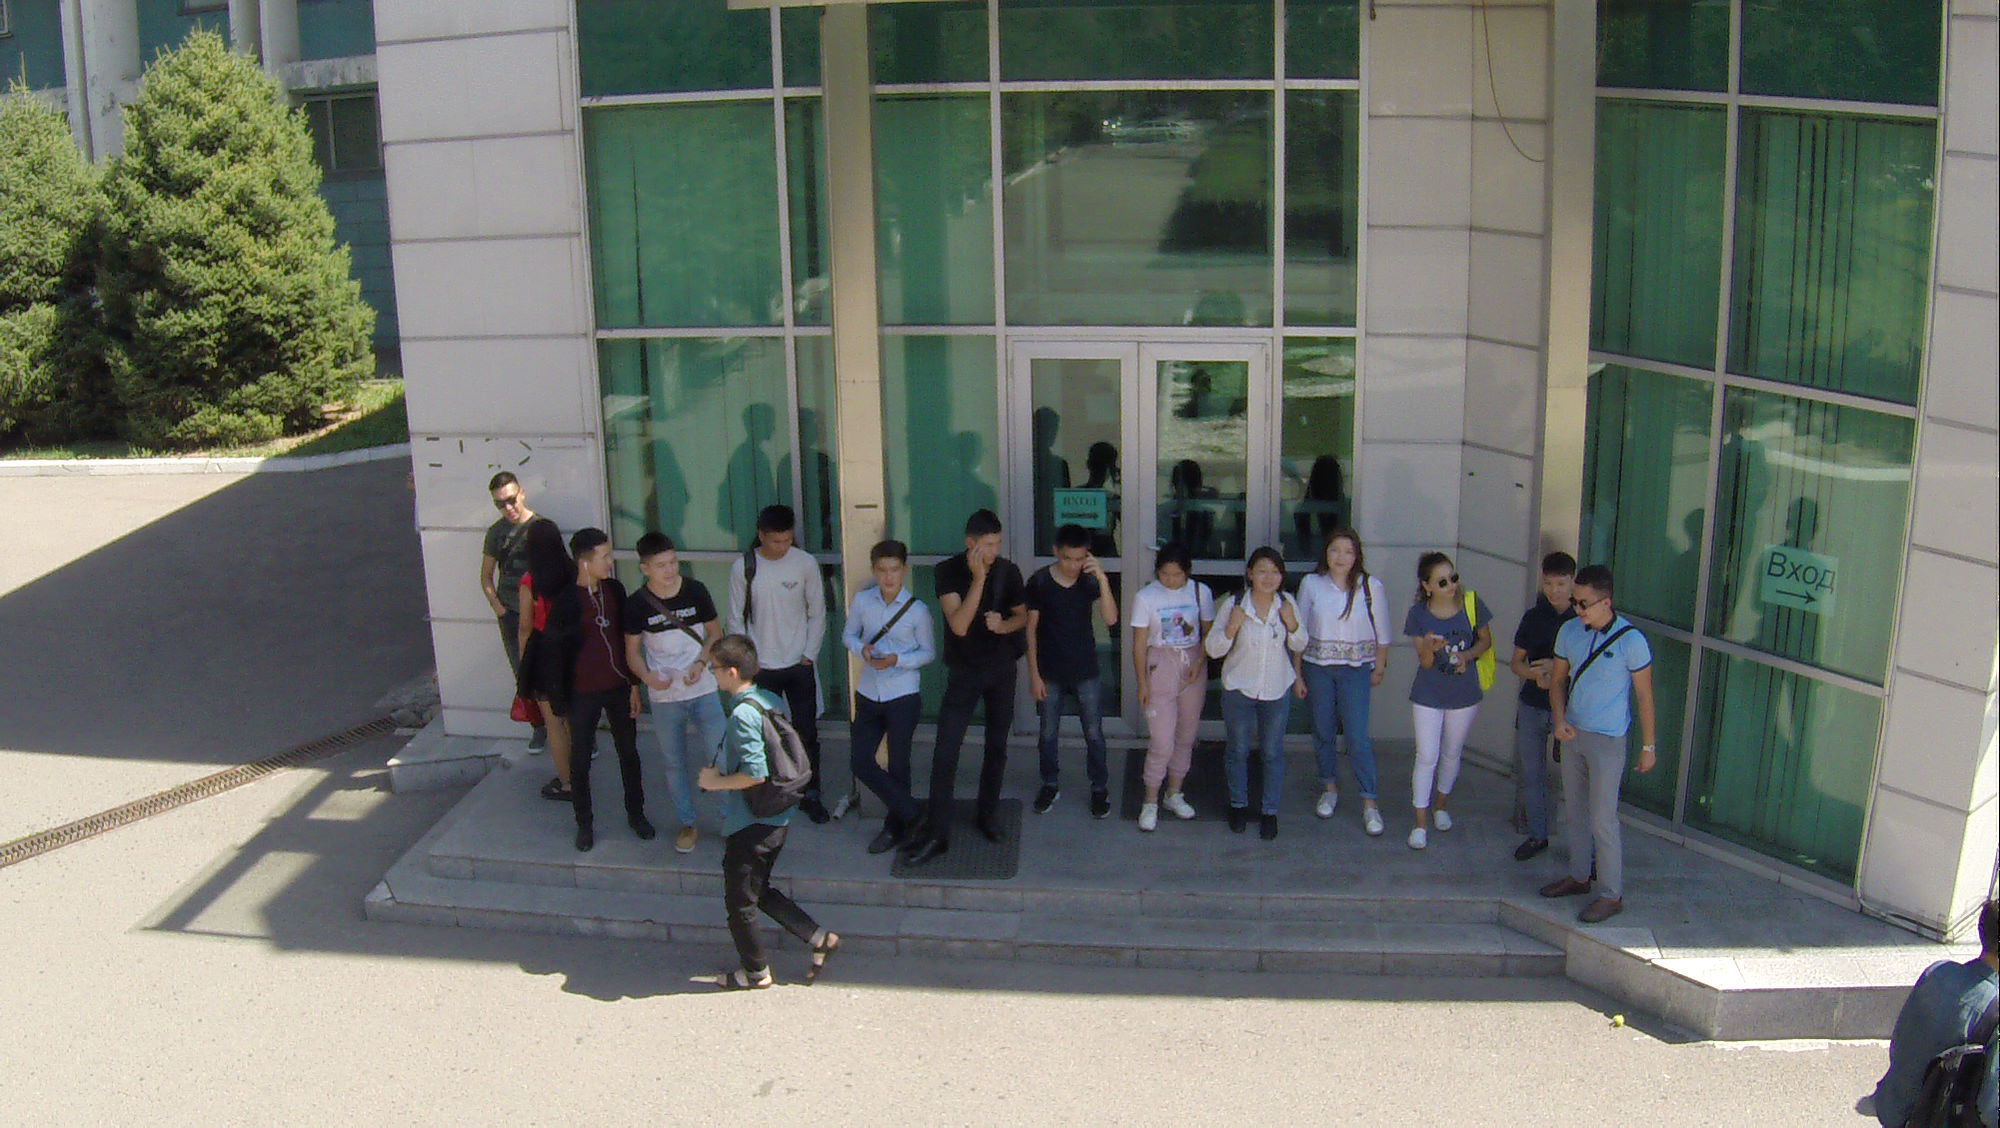person: (688, 623, 842, 993), (1540, 556, 1663, 924), (1385, 530, 1498, 868), (615, 508, 720, 863), (923, 500, 1022, 872), (1290, 533, 1399, 857), (551, 526, 661, 844), (1022, 505, 1122, 826), (1216, 522, 1310, 857), (835, 518, 926, 865), (1117, 534, 1218, 832), (1500, 519, 1584, 867), (513, 509, 589, 804), (767, 491, 833, 832), (480, 468, 527, 594)
